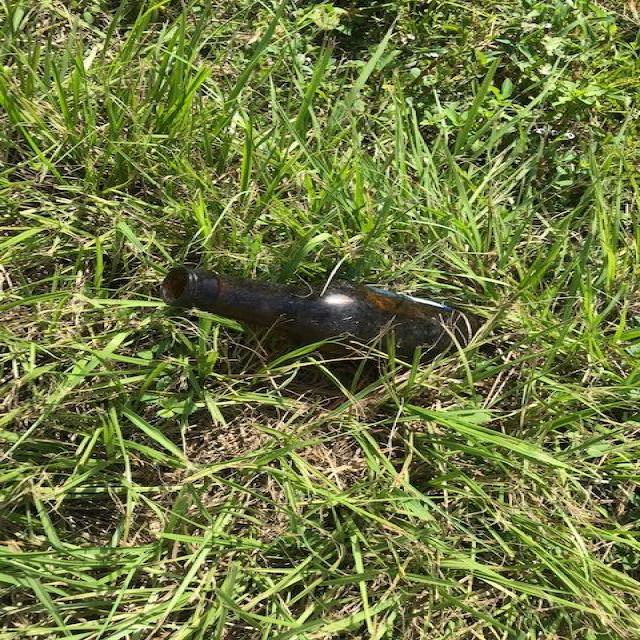litter: (179, 264, 461, 363)
